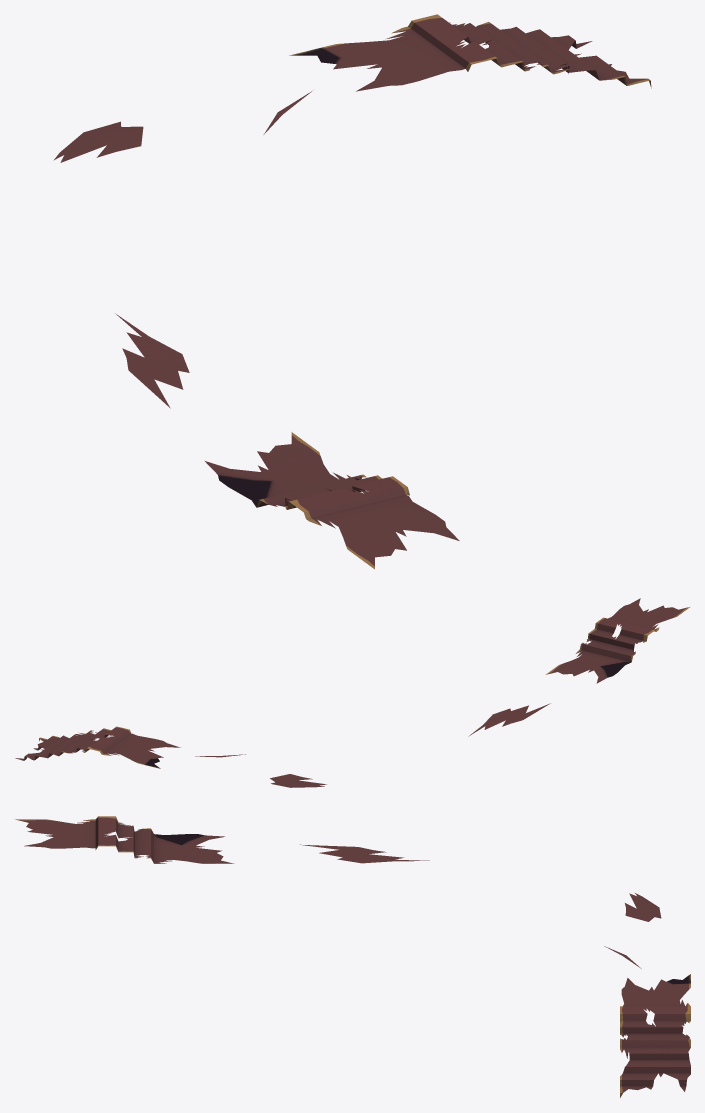
File: Capet_01.FBX
The picture shows the model from 3 angles, top to bottom: view 1: azimuth 30°, elevation 25°; view 2: azimuth 150°, elevation 25°; view 3: azimuth 270°, elevation 25°; orthographic projection. The views are drawn at different scales.
Parts seen in each view (by area): view 1: Capet_01; view 2: Capet_01; view 3: Capet_01.
Part boxes in pixels (x1,y1,x2,y2): Capet_01: [53, 14, 651, 569]; Capet_01: [15, 598, 689, 787]; Capet_01: [15, 816, 690, 1097].
Bounding box in the file's own units: 18.32 × 2.05 × 23.03.
